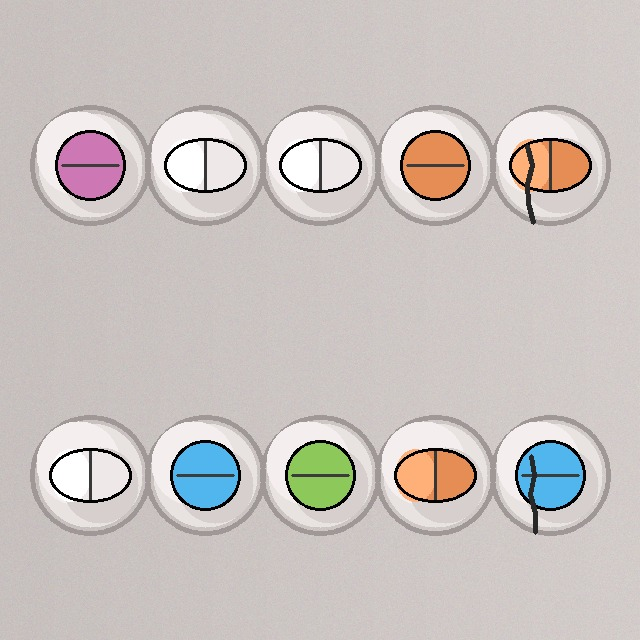crack: (488, 103, 612, 227), (488, 413, 612, 537)
